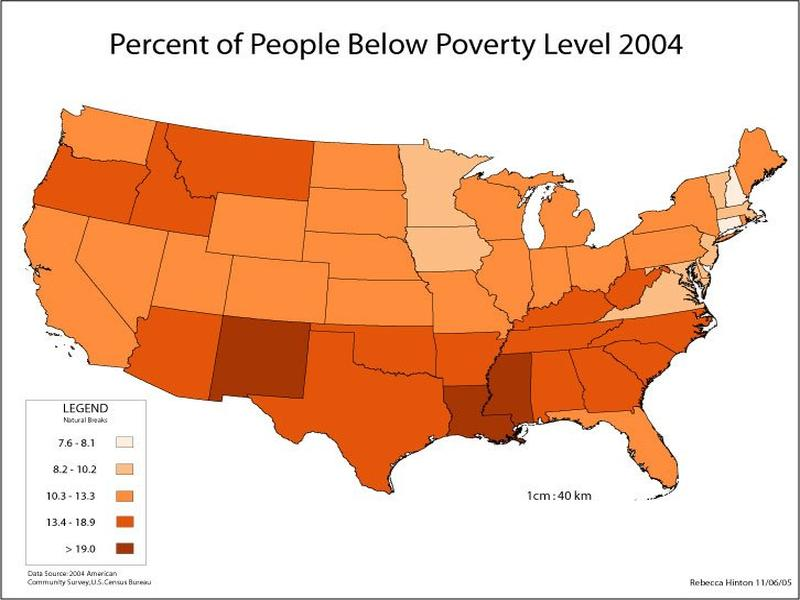legend: (23, 397, 148, 567)
